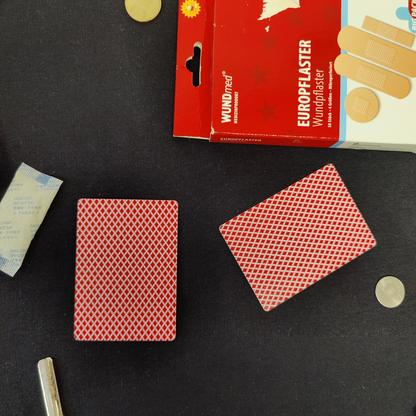card: (214, 157, 382, 324), (68, 193, 184, 348)
